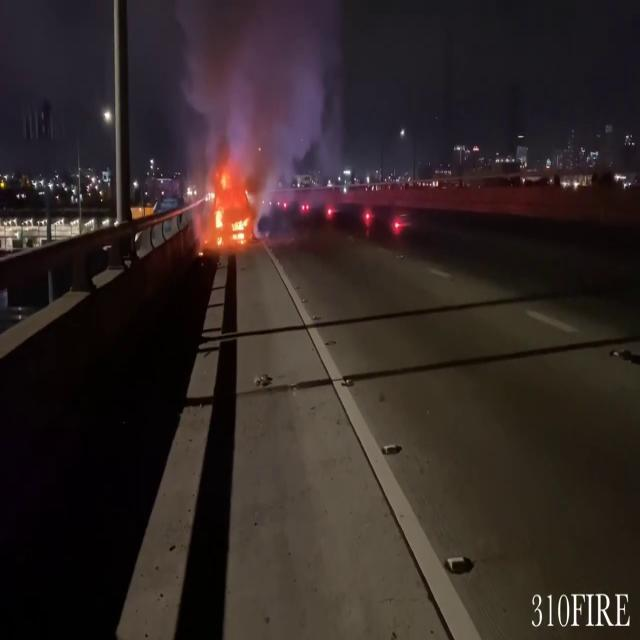Fire: (210, 160, 252, 250)
Smoke: (173, 0, 350, 204)
